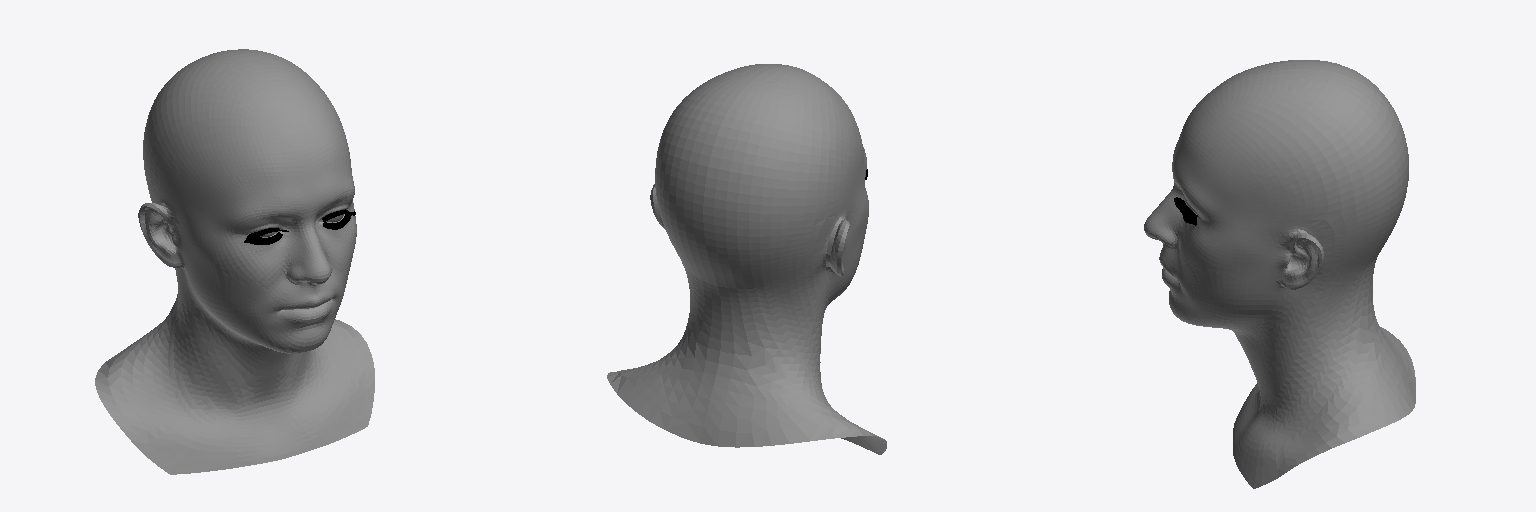
Rendered from cheekSquint_R.obj.
3 renders of one model, left to right at view 1: azimuth 30°, elevation 25°; view 2: azimuth 150°, elevation 25°; view 3: azimuth 270°, elevation 25°, orthographic.
Size of the model in its own units: 24.83 by 33.81 by 22.3.